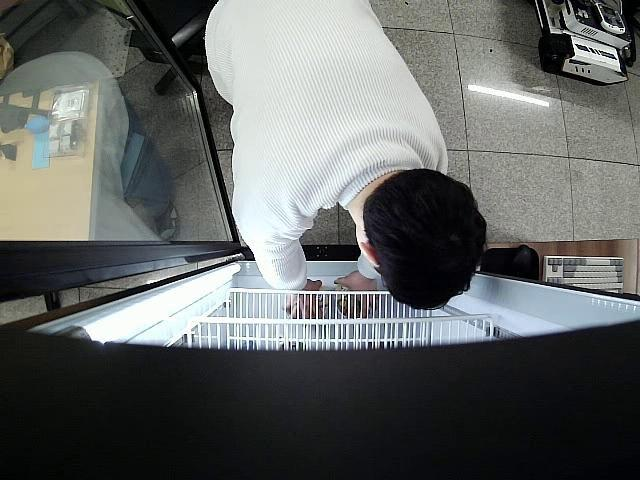03_chapagetti_L: (334, 286, 370, 316)
